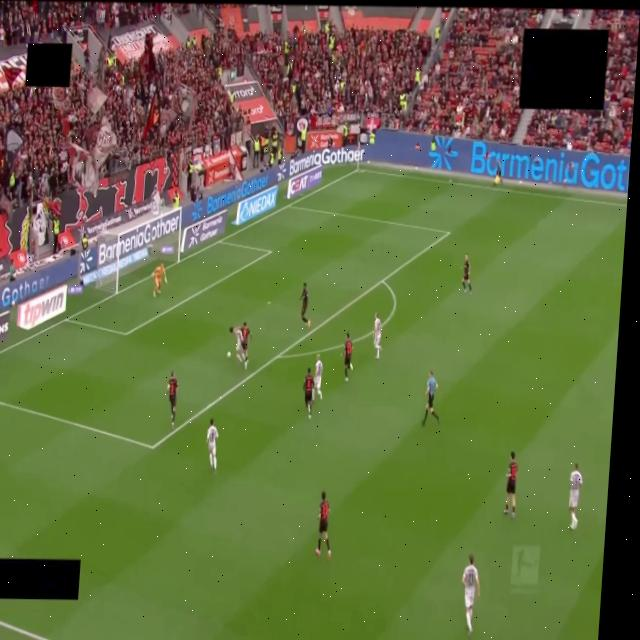ball: (227, 352, 231, 357)
player: (462, 555, 479, 634), (567, 463, 584, 531), (315, 492, 331, 558), (504, 452, 517, 518), (167, 371, 178, 428), (303, 368, 314, 419), (229, 327, 244, 363), (207, 420, 217, 472), (240, 322, 251, 369), (152, 264, 167, 297), (300, 283, 310, 327), (343, 333, 352, 381), (314, 355, 323, 399), (462, 255, 471, 293), (374, 313, 381, 358)
referee: (422, 371, 439, 426)
